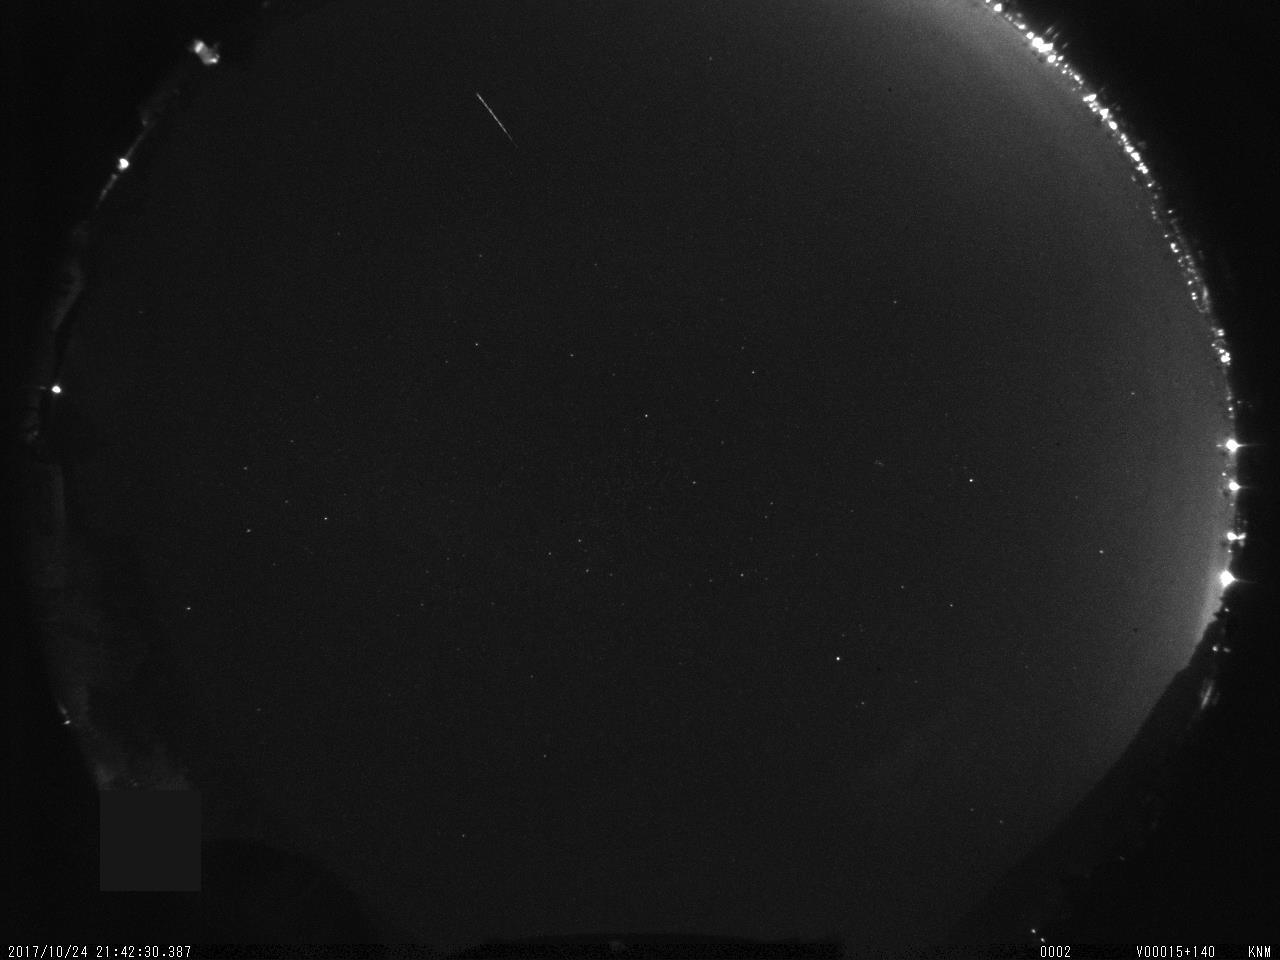meteor: (472, 87, 527, 147)
